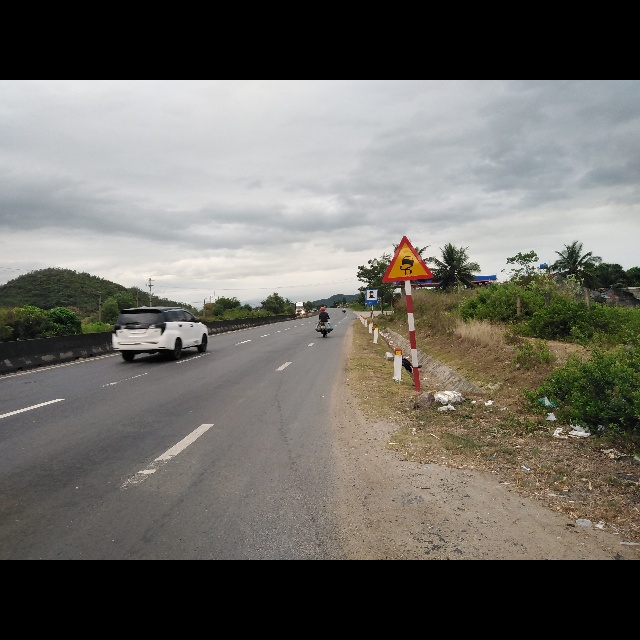Đường trơn trượt: (380, 235, 432, 286)
